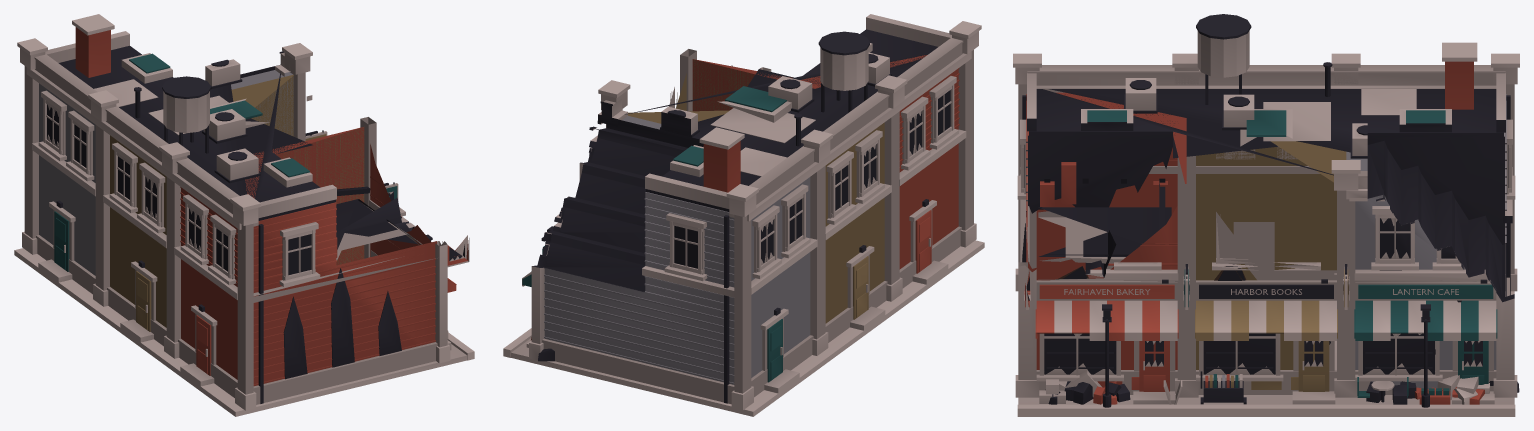
3 views of the same model, side by side, from view 1: azimuth 30°, elevation 25°; view 2: azimuth 150°, elevation 25°; view 3: azimuth 270°, elevation 25° (orthographic). The views are drawn at different scales.
Visible parts, largest first — view 1: body_pal_sidewalk.005, body_pal_brick.073, body_pal_uiDark, body_pal_khakiSeam, body_pal_pantsLight, body_pal_tealDark; view 2: body_pal_sidewalk.005, body_pal_uiDark, body_pal_pantsLight, body_pal_brick.073, body_pal_khakiSeam, body_pal_tealDark; view 3: body_pal_sidewalk.005, body_pal_uiDark, body_pal_khakiSeam, body_pal_brick.073, body_pal_tealDark, body_pal_pantsLight.
Boxes of the visible parts, box(x1,y1,x2,y2) form: body_pal_sidewalk.005: box(14, 14, 474, 416); body_pal_brick.073: box(75, 27, 468, 386); body_pal_uiDark: box(47, 45, 464, 403); body_pal_khakiSeam: box(110, 74, 364, 331); body_pal_pantsLight: box(39, 70, 293, 275); body_pal_tealDark: box(54, 53, 397, 271); body_pal_sidewalk.005: box(503, 14, 984, 416); body_pal_uiDark: box(532, 29, 950, 403); body_pal_pantsLight: box(544, 116, 810, 384); body_pal_brick.073: box(531, 55, 959, 340); body_pal_khakiSeam: box(628, 59, 884, 323); body_pal_tealDark: box(522, 86, 786, 382); body_pal_sidewalk.005: box(1013, 31, 1519, 416); body_pal_uiDark: box(1022, 14, 1519, 407); body_pal_khakiSeam: box(1195, 141, 1348, 391); body_pal_brick.073: box(1024, 61, 1484, 404); body_pal_tealDark: box(1087, 110, 1497, 397); body_pal_pantsLight: box(1222, 94, 1506, 389).
Bounding box in the file's own units: 10.1 × 10.22 × 16.54.
